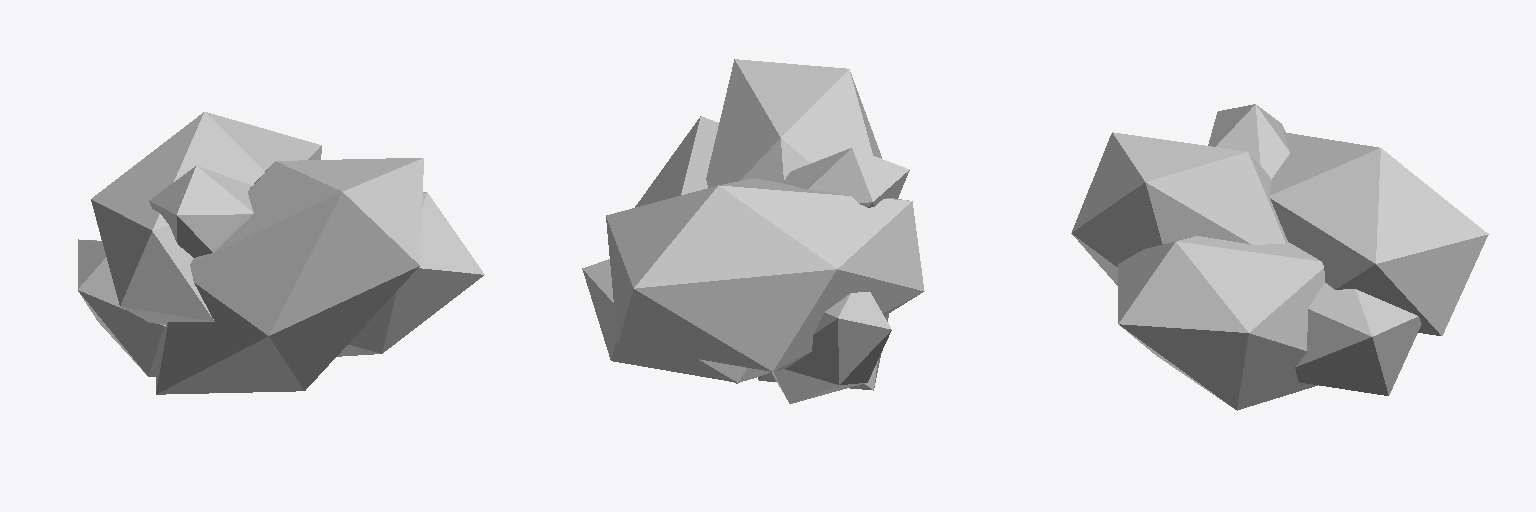
The model's file is Bush.obj.
3 renders of one model, left to right at view 1: azimuth 30°, elevation 25°; view 2: azimuth 150°, elevation 25°; view 3: azimuth 270°, elevation 25°, orthographic.
Visible parts, largest first — view 1: Bush_Cylinder; view 2: Bush_Cylinder; view 3: Bush_Cylinder.
Part boxes in pixels (bbox=[...]): Bush_Cylinder: bbox=[78, 112, 484, 394]; Bush_Cylinder: bbox=[582, 59, 924, 403]; Bush_Cylinder: bbox=[1071, 104, 1488, 410].
Size of the model in its own units: 5.24 by 4.14 by 6.26.